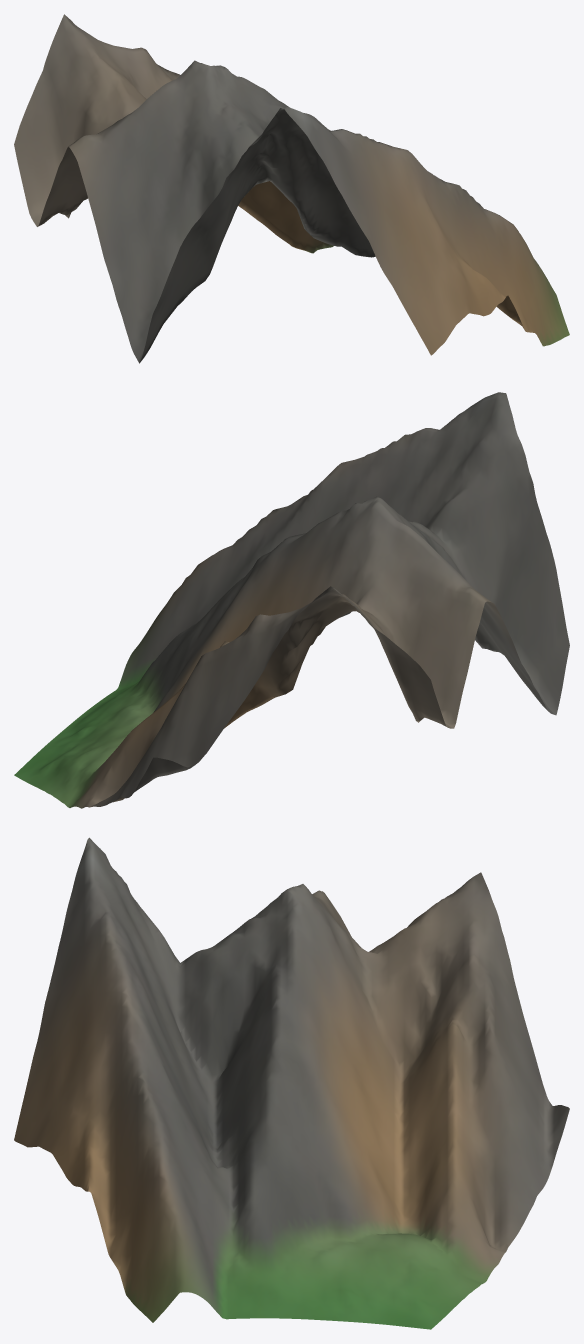
3 renders of one model, top to bottom at view 1: azimuth 30°, elevation 25°; view 2: azimuth 150°, elevation 25°; view 3: azimuth 270°, elevation 25°, orthographic.
Visible parts, largest first — view 1: terrain; view 2: terrain; view 3: terrain.
Boxes of the visible parts, x1,y1,x2,y2 form: terrain: [14, 14, 569, 363]; terrain: [14, 392, 569, 808]; terrain: [14, 837, 569, 1329].
Bounding box in the file's own units: 4330 × 3328 × 5000.
